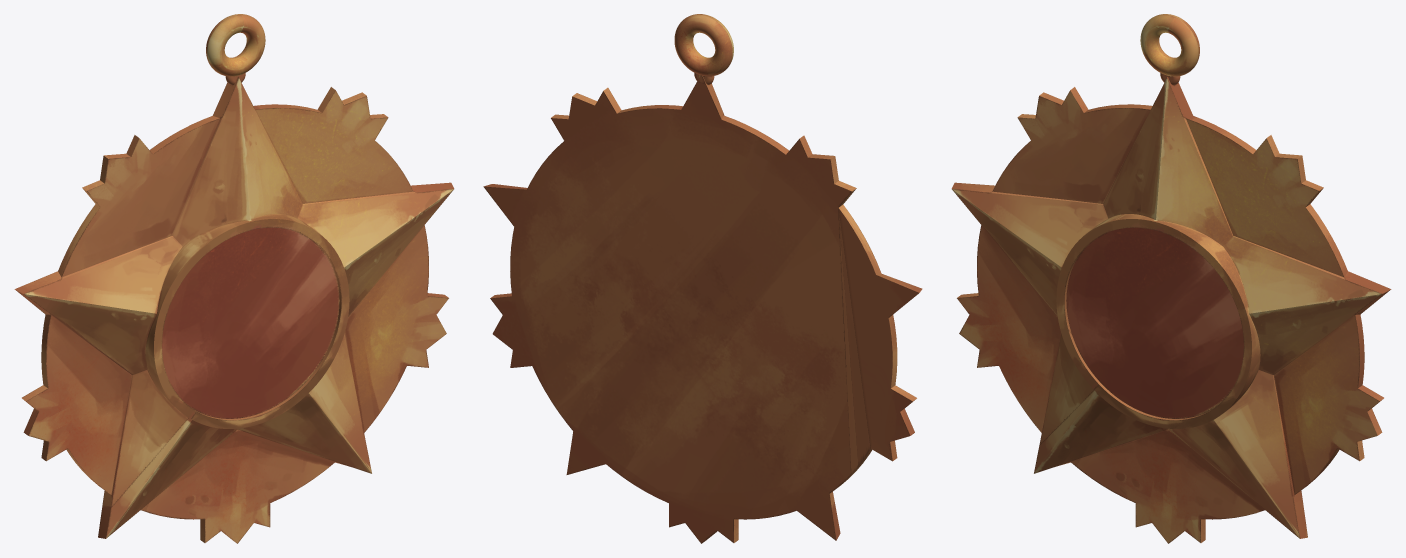
The model's file is AdvancedMedol.obj.
The picture shows the model from 3 angles, left to right: view 1: azimuth 30°, elevation 25°; view 2: azimuth 150°, elevation 25°; view 3: azimuth 330°, elevation 25°; orthographic projection.
Visible parts, largest first — view 1: AdvancedMedol; view 2: AdvancedMedol; view 3: AdvancedMedol.
Boxes of the visible parts, bbox=[...] form: AdvancedMedol: bbox=[14, 14, 454, 543]; AdvancedMedol: bbox=[483, 14, 922, 543]; AdvancedMedol: bbox=[951, 14, 1391, 543].
Size of the model in its own units: 61.12 by 70.47 by 5.02.
